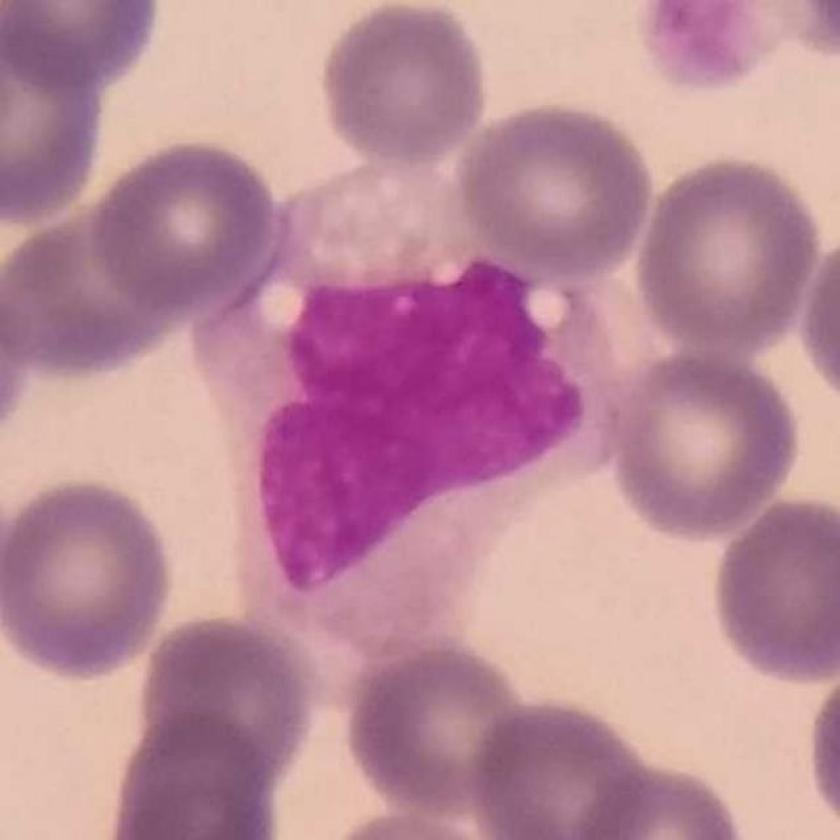monocyte: (188, 147, 645, 719)
